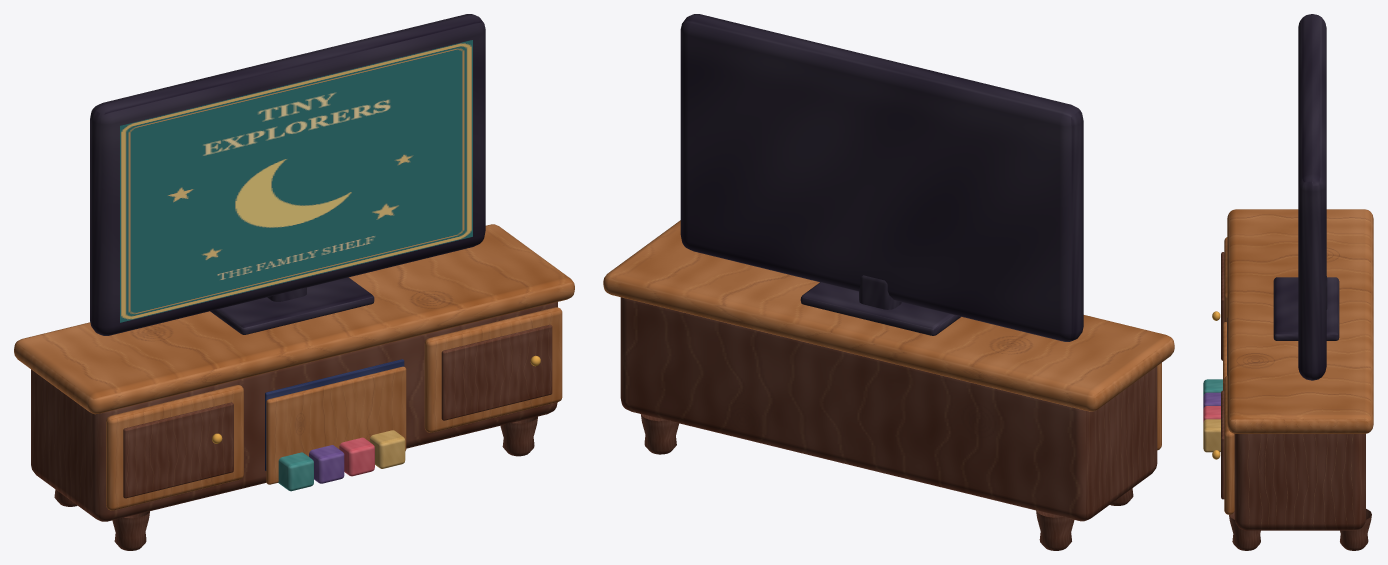
The model's file is V5_TVConsole.fbx.
The picture shows the model from 3 angles, left to right: view 1: azimuth 30°, elevation 25°; view 2: azimuth 150°, elevation 25°; view 3: azimuth 270°, elevation 25°; orthographic projection. The views are drawn at different scales.
Visible parts, largest first — view 1: V5_TVConsole; view 2: V5_TVConsole; view 3: V5_TVConsole.
Boxes of the visible parts, left/top/right/bottom form: V5_TVConsole: left=14, top=14, right=574, bottom=550; V5_TVConsole: left=603, top=14, right=1174, bottom=550; V5_TVConsole: left=1203, top=14, right=1373, bottom=550.
Bounding box in the file's own units: 1.68 × 1.36 × 0.57.
2 materials, 2 textured.
